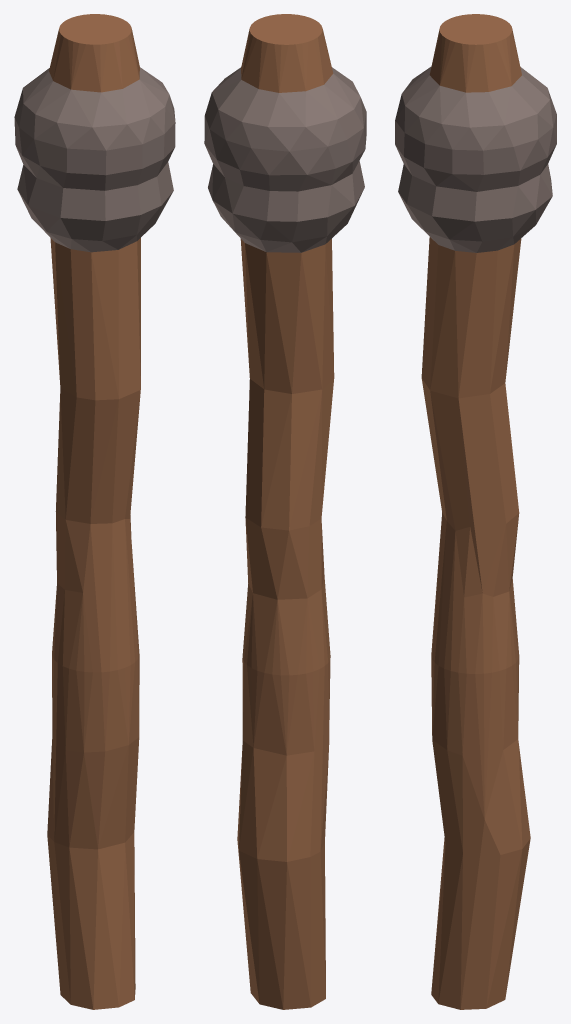
The model's file is torch.fbx.
3 views of the same model, side by side, from view 1: azimuth 30°, elevation 25°; view 2: azimuth 150°, elevation 25°; view 3: azimuth 270°, elevation 25° (orthographic).
Parts seen in each view (by area): view 1: Cylinder; view 2: Cylinder; view 3: Cylinder.
Boxes of the visible parts, bbox=[...] form: Cylinder: bbox=[14, 14, 175, 1009]; Cylinder: bbox=[204, 14, 366, 1009]; Cylinder: bbox=[395, 14, 556, 1009].
Size of the model in its own units: 367 by 2418 by 368.
